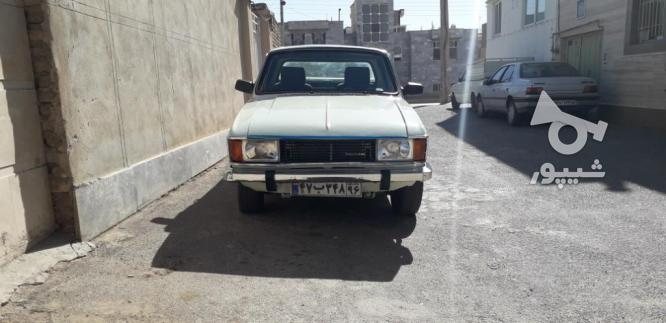car: (288, 180, 369, 201)
